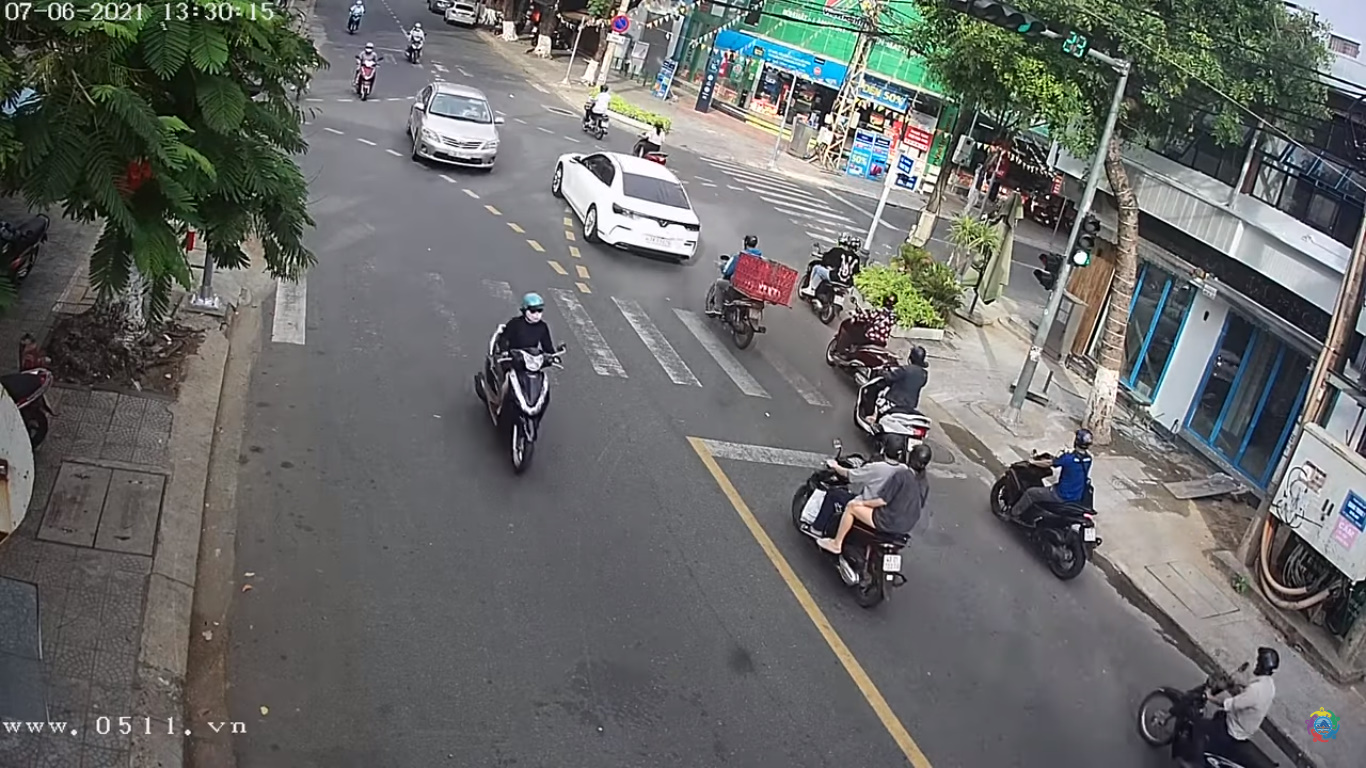car: (409, 84, 503, 169)
motorbike: (477, 290, 571, 473)
